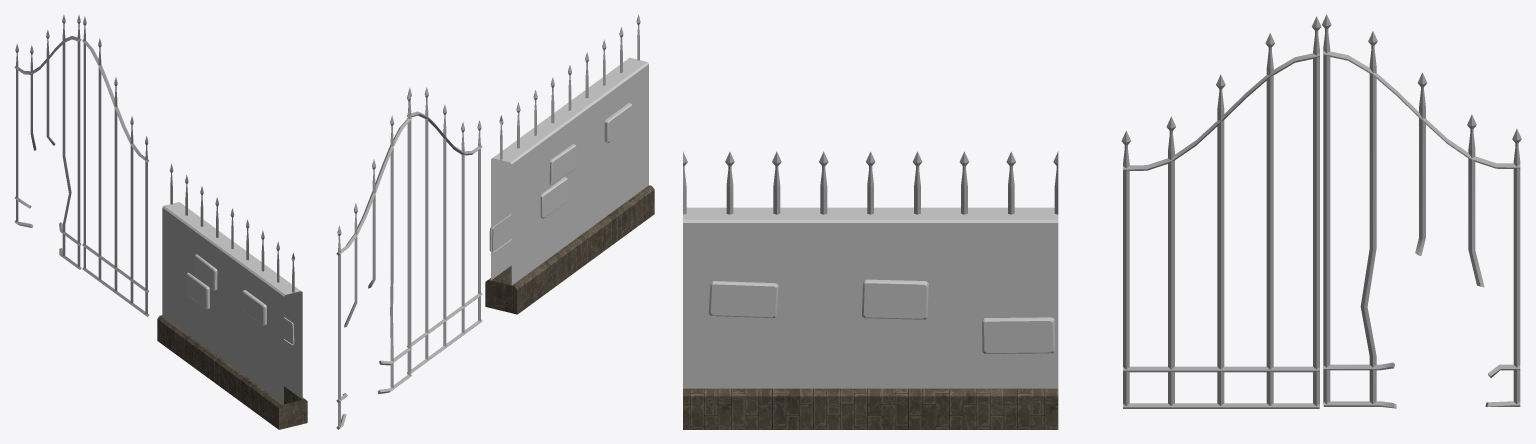
Rendered from mainwall.fbx.
3 renders of one model, left to right at view 1: azimuth 30°, elevation 25°; view 2: azimuth 150°, elevation 25°; view 3: azimuth 270°, elevation 25°, orthographic. The views are drawn at different scales.
Visible parts, largest first — view 1: MainWallSpikes2; view 2: MainWallSpikes2; view 3: MainWallSpikes2.
Boxes of the visible parts, x1,y1,x2,y2 form: MainWallSpikes2: (14,14,307,429); MainWallSpikes2: (336,14,654,429); MainWallSpikes2: (683,14,1521,429).
Bounding box in the file's own units: 0.6345 × 5.53 × 10.47.
